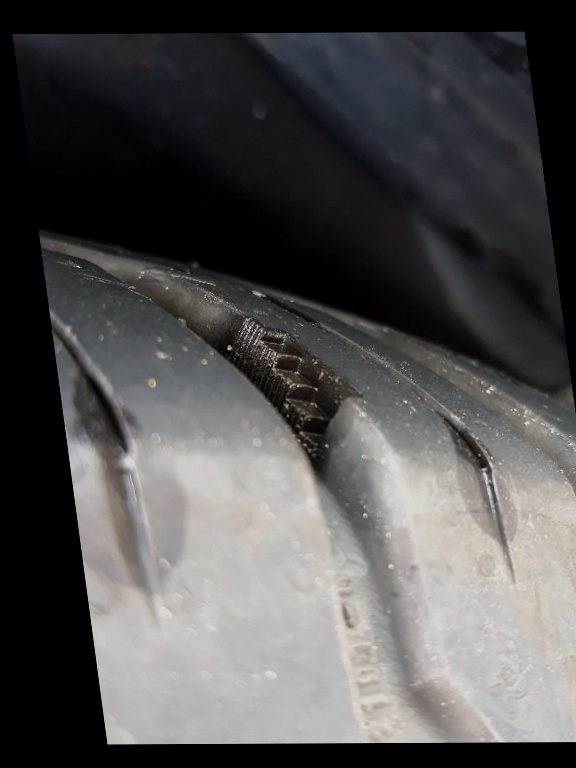temoin:90: (214, 312, 380, 468)
